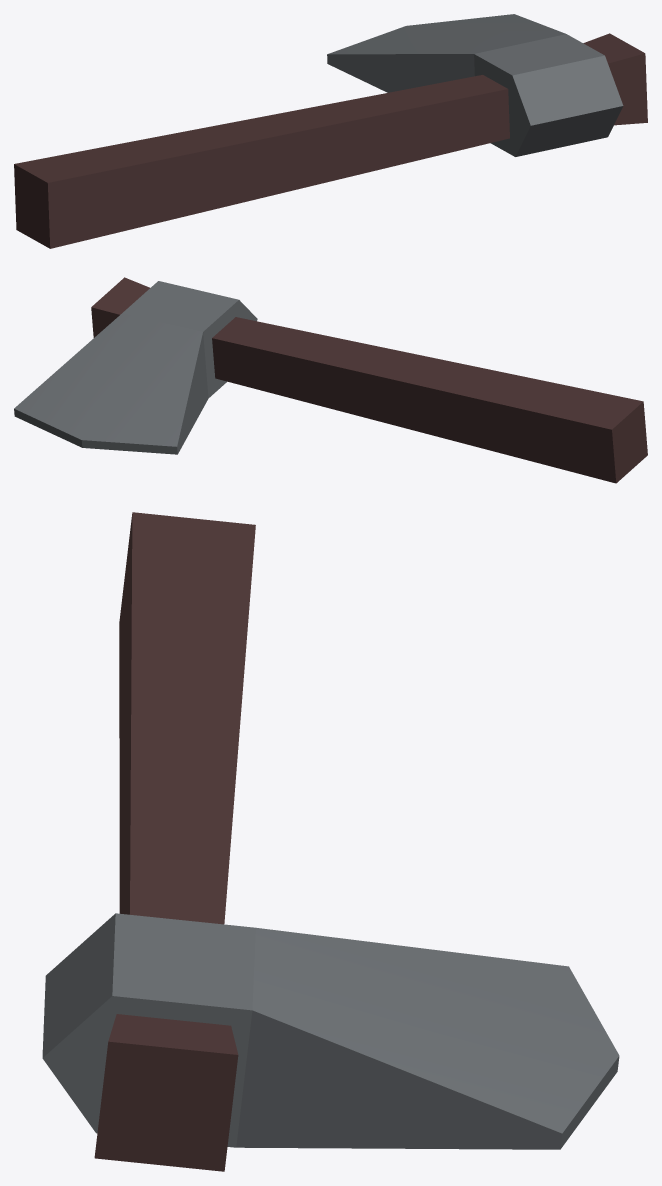
Rendered from DarkRoseWoodMechSmallAxe1.fbx.
3 views of the same model, one above another, from view 1: azimuth 30°, elevation 25°; view 2: azimuth 150°, elevation 25°; view 3: azimuth 270°, elevation 25° (orthographic). The views are drawn at different scales.
Visible parts, largest first — view 1: Shaft, AxeHead; view 2: Shaft, AxeHead; view 3: AxeHead, Shaft.
Boxes of the visible parts, bbox=[...] form: Shaft: bbox=[14, 33, 647, 248]; AxeHead: bbox=[327, 14, 623, 156]; Shaft: bbox=[91, 277, 647, 483]; AxeHead: bbox=[14, 281, 257, 454]; AxeHead: bbox=[42, 913, 619, 1149]; Shaft: bbox=[94, 512, 255, 1171].
Size of the model in its own units: 138 by 19.74 by 65.51.
